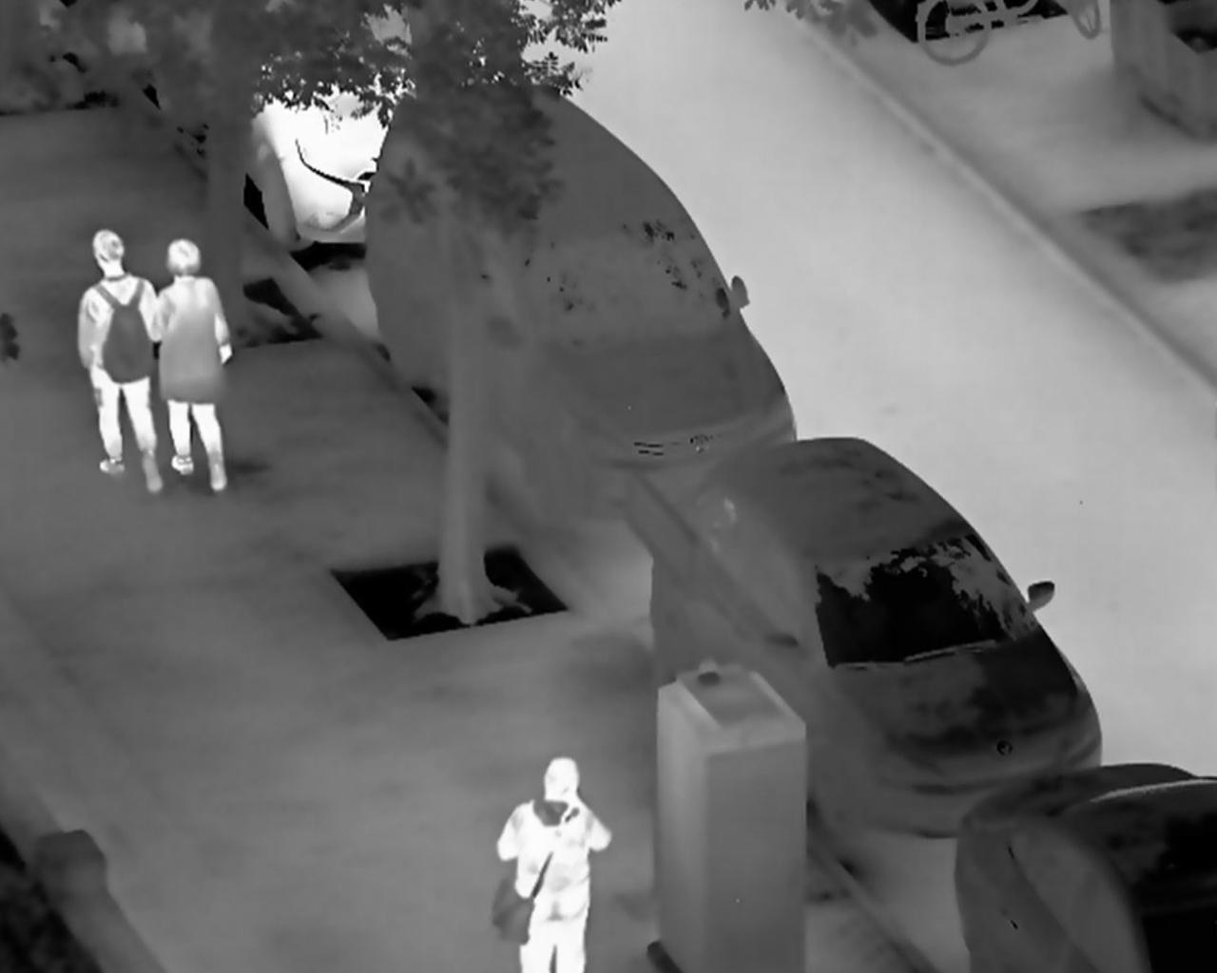person: (489, 754, 619, 973), (72, 227, 163, 494), (154, 236, 235, 495)
